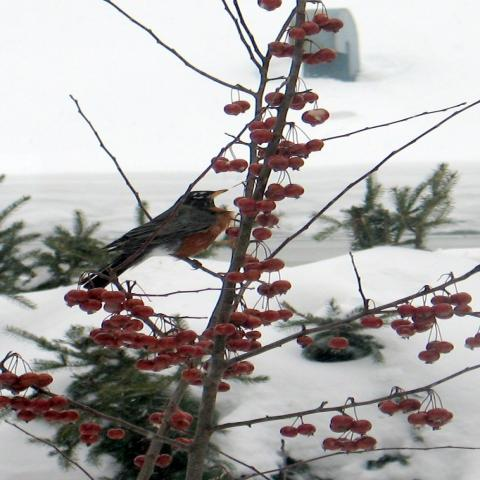bird: (81, 188, 237, 290)
